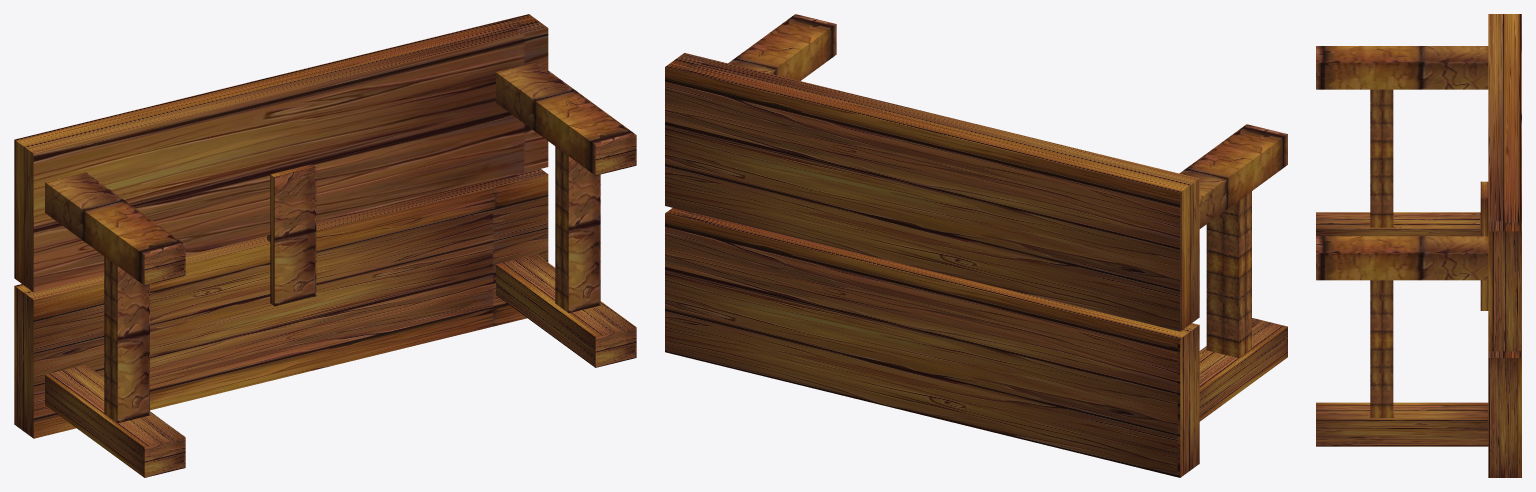
Rendered from Desk.fbx.
The picture shows the model from 3 angles, left to right: view 1: azimuth 30°, elevation 25°; view 2: azimuth 150°, elevation 25°; view 3: azimuth 270°, elevation 25°; orthographic projection. The views are drawn at different scales.
Parts seen in each view (by area): view 1: Desk_Leg_01.001; view 2: Desk_Leg_01.001; view 3: Desk_Leg_01.001.
Part boxes in pixels (left/top/right/bottom): Desk_Leg_01.001: left=14, top=14, right=636, bottom=477; Desk_Leg_01.001: left=665, top=14, right=1287, bottom=477; Desk_Leg_01.001: left=1316, top=14, right=1521, bottom=477.
Size of the model in its own units: 1121 by 593 by 448.
